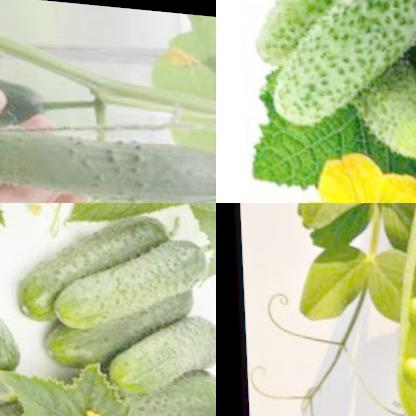cucumber: (0, 203, 177, 337), (256, 0, 416, 140), (46, 214, 215, 340), (0, 115, 216, 203), (24, 275, 196, 375), (239, 0, 416, 86), (76, 347, 216, 416), (111, 300, 216, 391), (335, 53, 416, 162), (0, 60, 52, 131), (0, 277, 31, 385), (0, 378, 67, 416), (108, 394, 216, 416)
peas: (398, 203, 416, 416)
